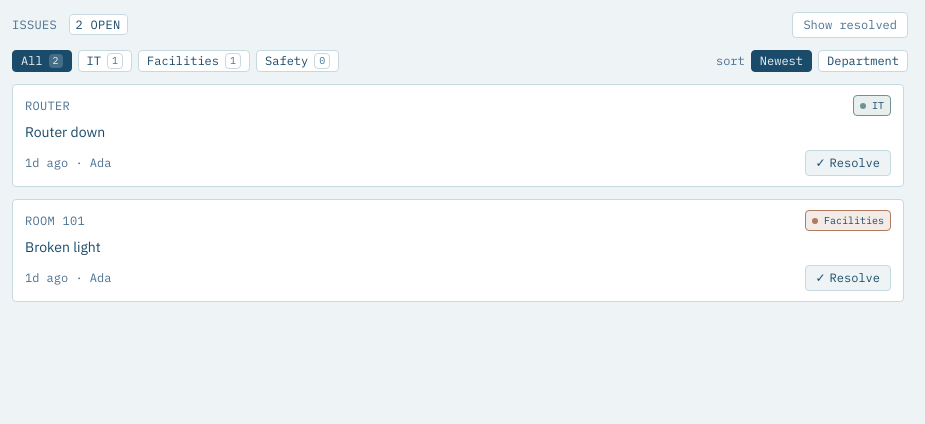
Test case: IssuesPanel › hides resolved Issues by default and reveals them via the toggle
Expected: the text "Broken light" is shown, top-left (25, 238), bottom-right (101, 256)
Expected: the text "Old spill" is not shown
Click the button "Show resolved".
click(850, 25)  # box top-left (792, 12), bottom-right (908, 38)
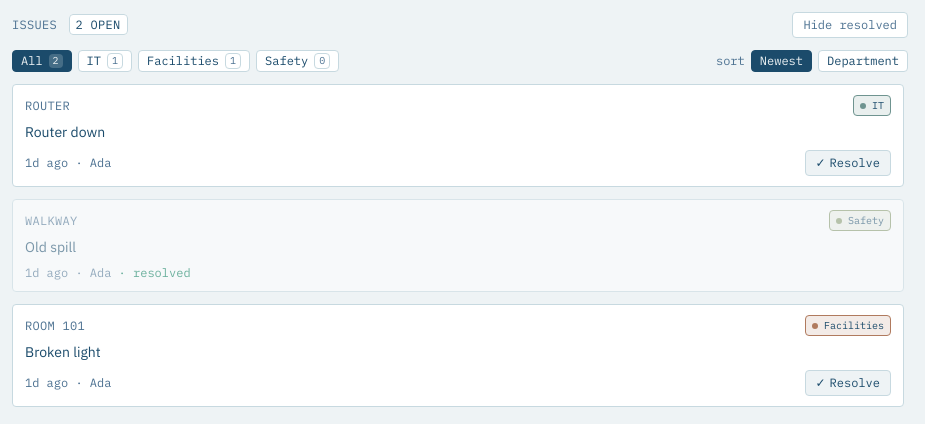
Now the text "Old spill" is shown, box top-left (25, 238), bottom-right (76, 256)
Click the button "Hide resolved".
click(850, 25)  # box top-left (792, 12), bottom-right (908, 38)
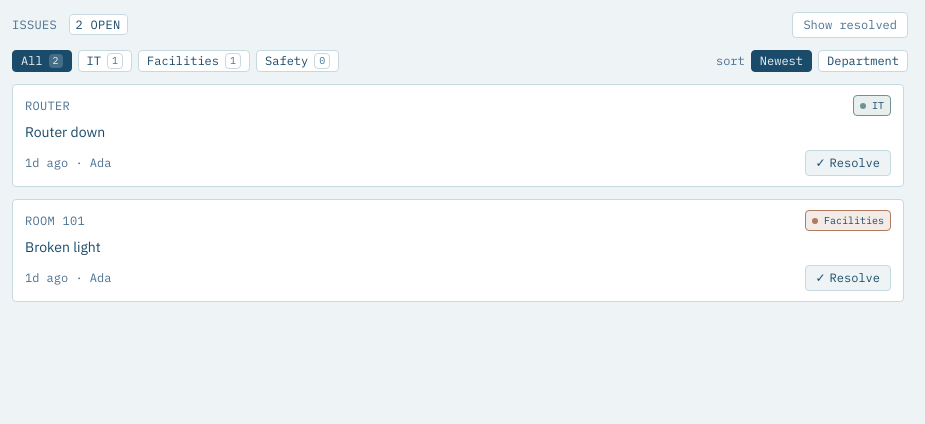
Now the button "Old spill" is gone
